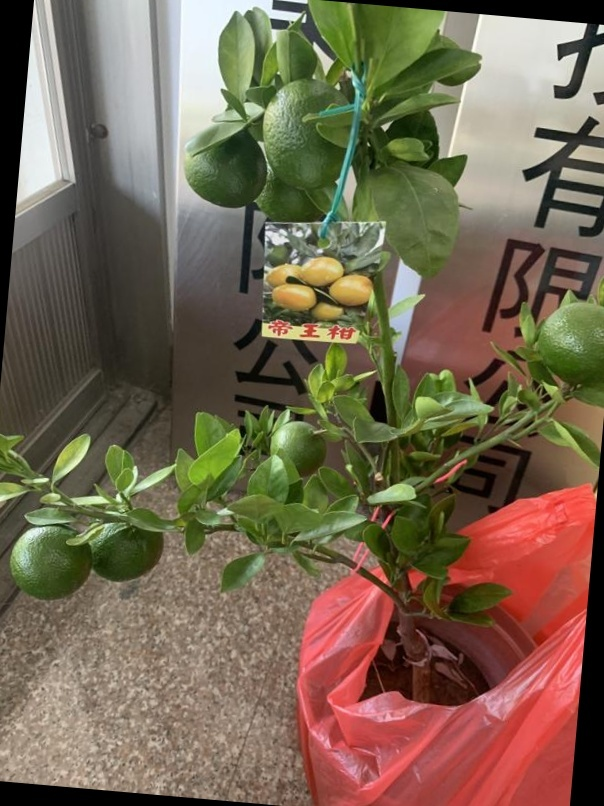Tangerine: (262, 78, 348, 190), (6, 516, 96, 598), (178, 130, 268, 206), (541, 299, 603, 384), (90, 519, 172, 580)
